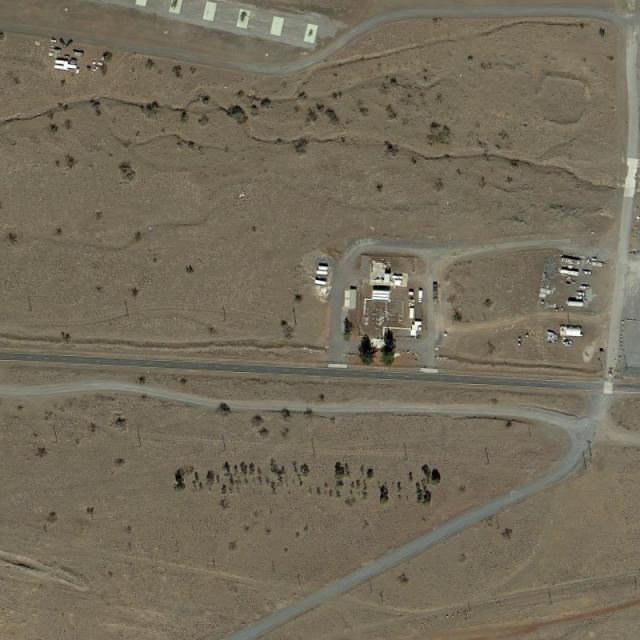vehicle: (417, 290, 425, 303), (66, 38, 76, 48), (59, 38, 67, 48), (575, 291, 586, 297), (580, 285, 591, 290), (584, 270, 591, 275), (577, 295, 583, 299)
